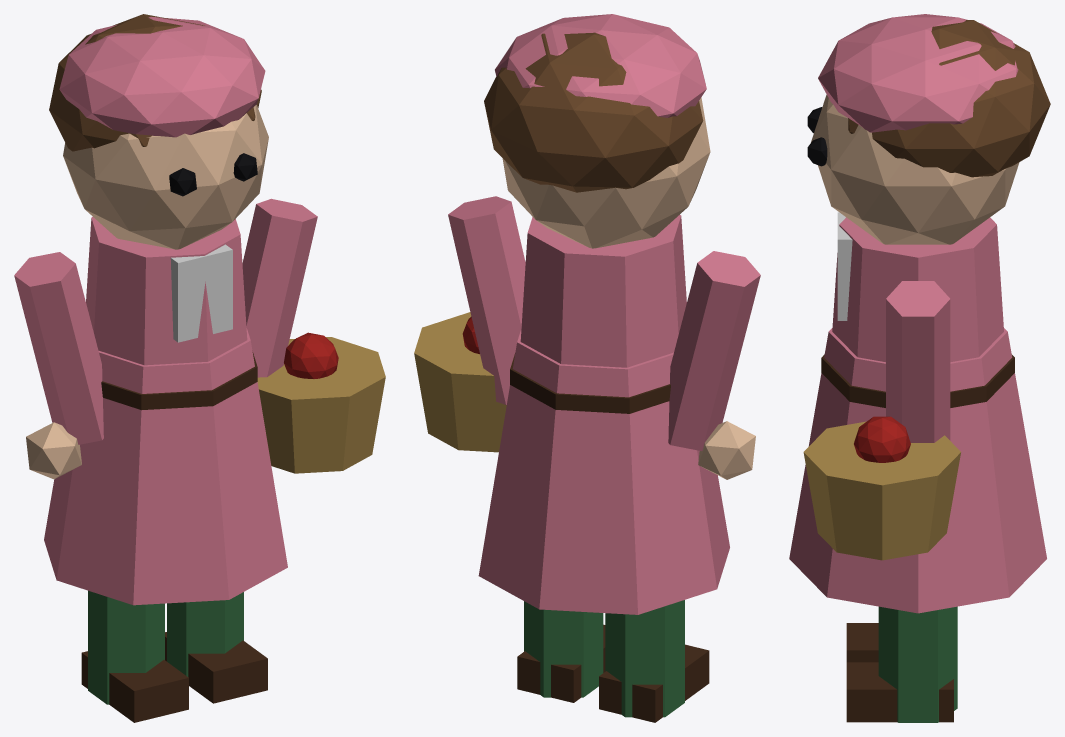
The model's file is SM_GZ_npc_pet_trainer.fbx.
The picture shows the model from 3 angles, left to right: view 1: azimuth 30°, elevation 25°; view 2: azimuth 150°, elevation 25°; view 3: azimuth 270°, elevation 25°; orthographic projection. The views are drawn at different scales.
Parts seen in each view (by area): view 1: SM_GZ_npc_pet_trainer; view 2: SM_GZ_npc_pet_trainer; view 3: SM_GZ_npc_pet_trainer.
Part boxes in pixels (x1,y1,x2,y2): SM_GZ_npc_pet_trainer: [14, 14, 385, 722]; SM_GZ_npc_pet_trainer: [414, 14, 760, 722]; SM_GZ_npc_pet_trainer: [789, 14, 1050, 722].
Bounding box in the file's own units: 111 × 203 × 73.
